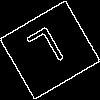L: (25, 25, 72, 79)
